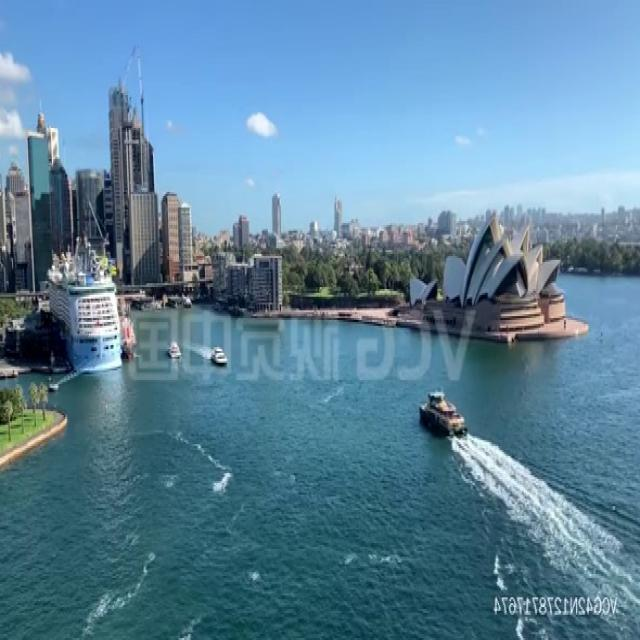houseboat: (420, 382, 467, 440), (210, 342, 230, 363), (164, 338, 180, 362)
passenger ship: (46, 237, 123, 373)
